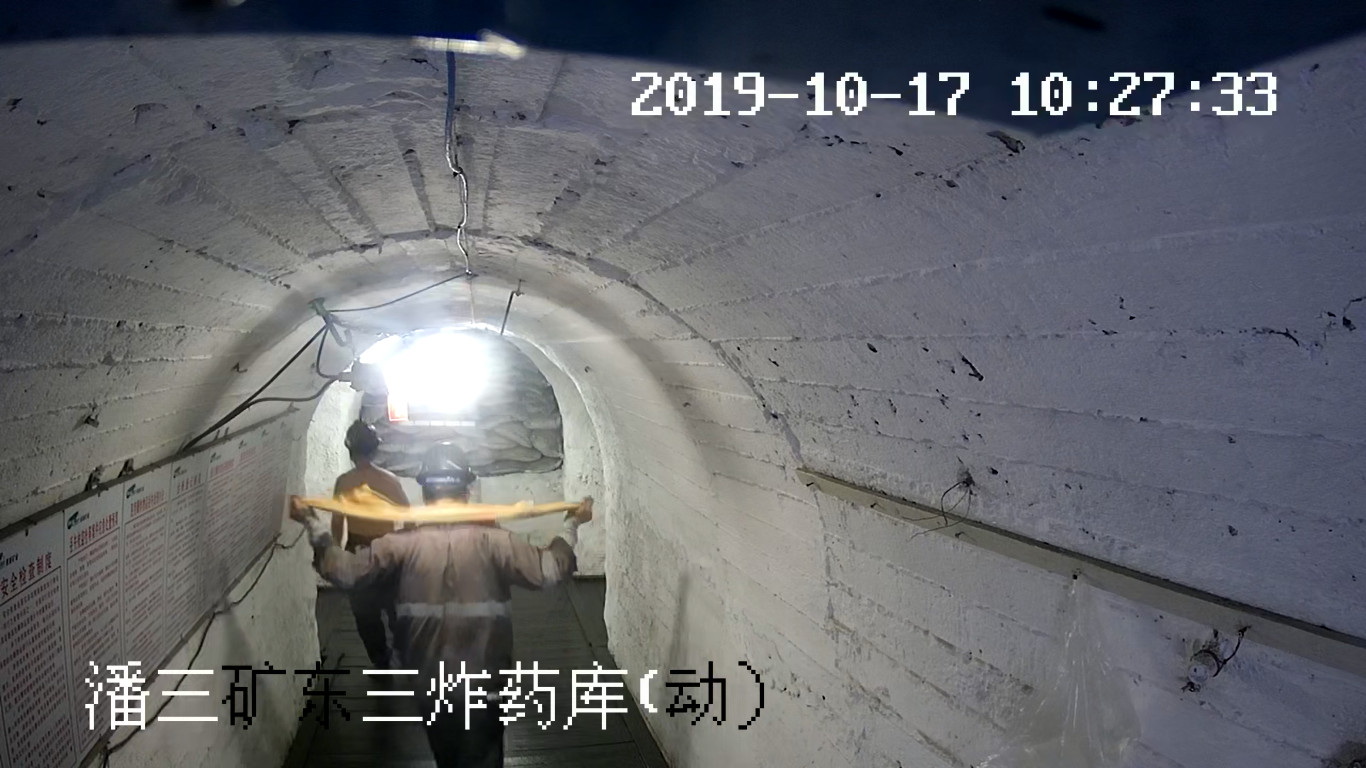helmet: (416, 439, 475, 486), (345, 418, 381, 453)
